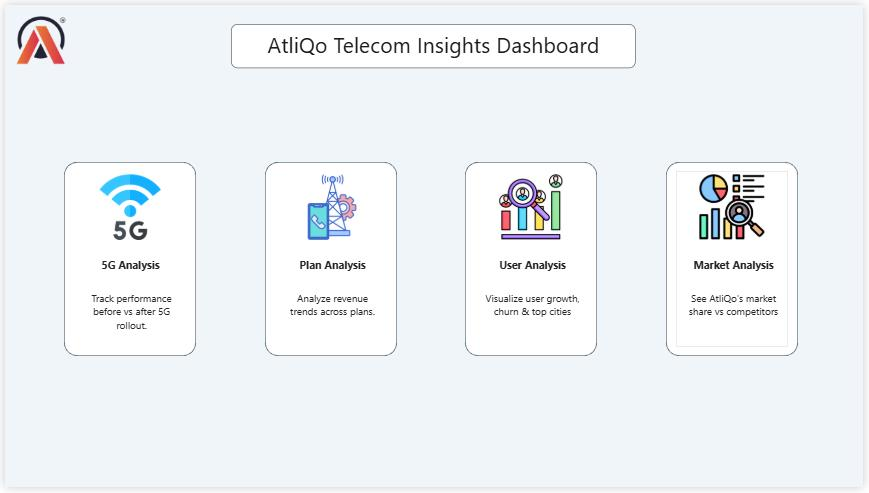

Layout of this report page (visuals, bound fields, positions):
{"tool":"powerbi","page":{"name":"Home","canvas":[1280,720],"ordinal":0},"visuals":[{"type":"image","box":[11.9,10.4,85.1,83.6],"z":0},{"type":"shape","box":[88.1,234.3,197,289.6],"z":0,"group":"g1"},{"type":"shape","box":[387.6,234.3,197,289.6],"z":0,"group":"g2"},{"type":"shape","box":[687.1,234.3,197,289.6],"z":0,"group":"g3"},{"type":"shape","box":[986.6,234.3,197,289.6],"z":0,"group":"g4"},{"type":"textbox","box":[337.8,28.4,604.5,65.7],"z":1000},{"type":"image","box":[123.9,248,125.4,107.9],"z":1000,"group":"g1"},{"type":"textbox","box":[413,422.4,150.7,88.1],"z":1000,"group":"g2"},{"type":"textbox","box":[712.5,422.4,150.7,88.1],"z":1000,"group":"g3"},{"type":"textbox","box":[1012,422.4,150.7,88.1],"z":1000,"group":"g4"},{"type":"group","id":"g1","title":"5G Group","box":[88.1,234.3,197,289.6],"z":2000},{"type":"image","box":[722.9,247.7,125.4,107.5],"z":2000,"group":"g3"},{"type":"image","box":[1022.4,247.7,125.4,107.5],"z":2000,"group":"g4"},{"type":"image","box":[424.9,248,125.4,107.9],"z":2000,"group":"g2"},{"type":"textbox","box":[113.4,422,150.7,88.1],"z":2000,"group":"g1"},{"type":"group","id":"g2","title":"Plan Group","box":[387.6,234.3,197,289.6],"z":3000},{"type":"textbox","box":[413,371.6,150.7,38.8],"z":3000,"group":"g2"},{"type":"textbox","box":[712.5,371.6,150.7,38.8],"z":3000,"group":"g3"},{"type":"textbox","box":[1012,371.6,150.7,38.8],"z":3000,"group":"g4"},{"type":"textbox","box":[112.4,372,150.7,38.8],"z":3000,"group":"g1"},{"type":"group","id":"g3","title":"User Group","box":[687.1,234.3,197,289.6],"z":4000},{"type":"group","id":"g4","title":"Market Group","box":[986.6,234.3,197,289.6],"z":5000},{"type":"actionButton","box":[103,247.8,167.2,262.7],"z":6000},{"type":"actionButton","box":[404.5,247.8,167.2,262.7],"z":7000},{"type":"actionButton","box":[701.5,247.8,167.2,262.7],"z":8000},{"type":"actionButton","box":[1001.5,247.8,167.2,262.7],"z":9000}]}

Visuals, with their boxes in screenshot pixels (x1, y1, x2, y2), scaled from the page's 1280x720 canvas onto the 869x493 screenshot:
image: <box>8,7,66,64</box>
shape: <box>60,160,194,359</box>
shape: <box>263,160,397,359</box>
shape: <box>466,160,600,359</box>
shape: <box>670,160,804,359</box>
textbox: <box>229,19,640,64</box>
image: <box>84,170,169,244</box>
textbox: <box>280,289,383,350</box>
textbox: <box>484,289,586,350</box>
textbox: <box>687,289,789,350</box>
"5G Group" group: <box>60,160,194,359</box>
image: <box>491,170,576,243</box>
image: <box>694,170,779,243</box>
image: <box>288,170,374,244</box>
textbox: <box>77,289,179,349</box>
"Plan Group" group: <box>263,160,397,359</box>
textbox: <box>280,254,383,281</box>
textbox: <box>484,254,586,281</box>
textbox: <box>687,254,789,281</box>
textbox: <box>76,255,179,281</box>
"User Group" group: <box>466,160,600,359</box>
"Market Group" group: <box>670,160,804,359</box>
actionButton: <box>70,170,183,350</box>
actionButton: <box>275,170,388,350</box>
actionButton: <box>476,170,590,350</box>
actionButton: <box>680,170,793,350</box>
